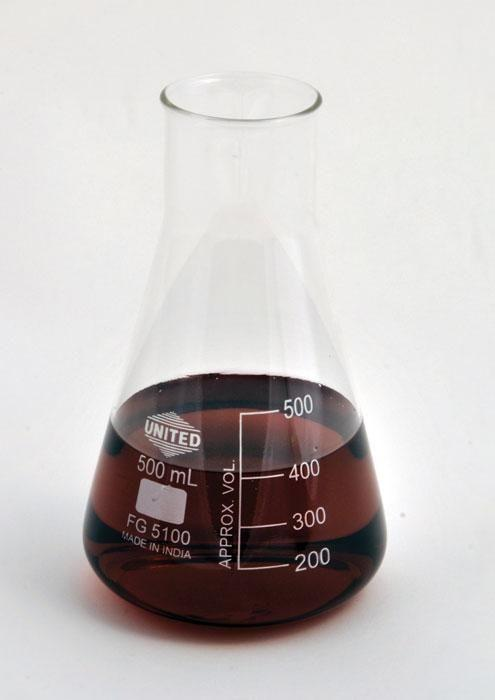Titrarion: (83, 51, 394, 634)
